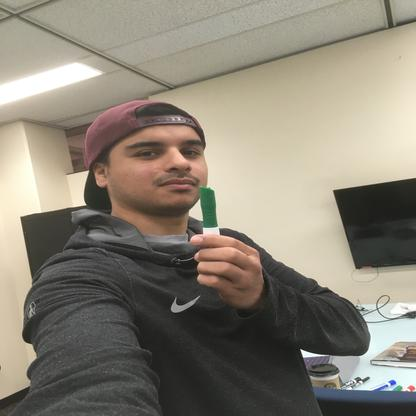expo_marker: (190, 181, 223, 239), (332, 375, 415, 397)
